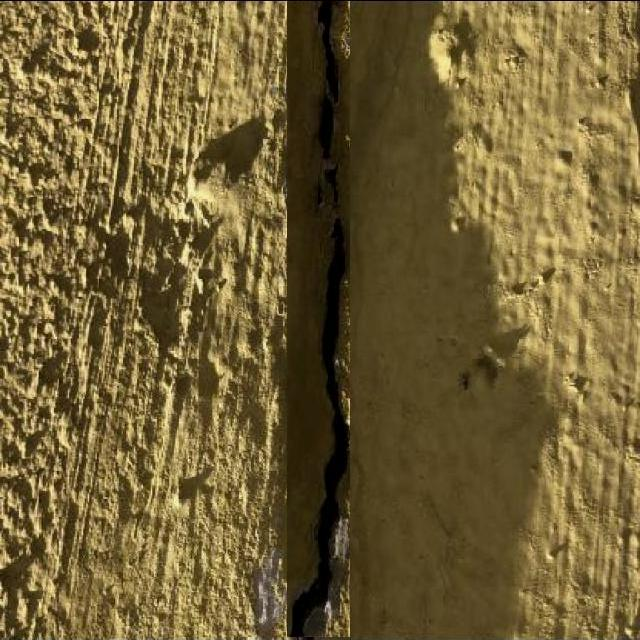crack: (291, 0, 355, 638)
